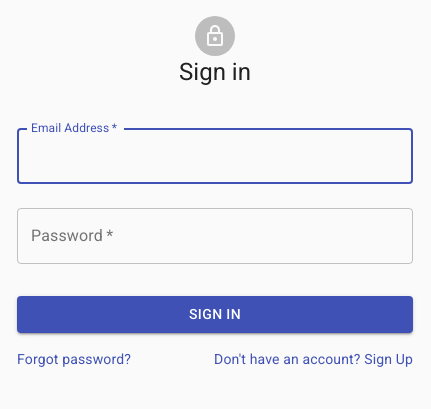
Scenario: Signin › password input indicates email and password mismatch errors with wrong password input
In the field with test id "email-signin": (215, 156) left=17, top=128, right=413, bottom=184, type "currentUser@gmail.com"
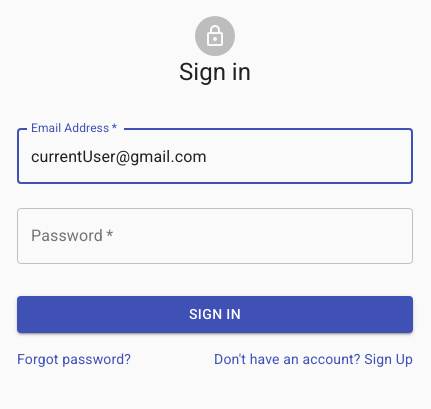
In the password field with test id "password-signin": (215, 236) left=17, top=208, right=413, bottom=264, type "zxcvbnm123"
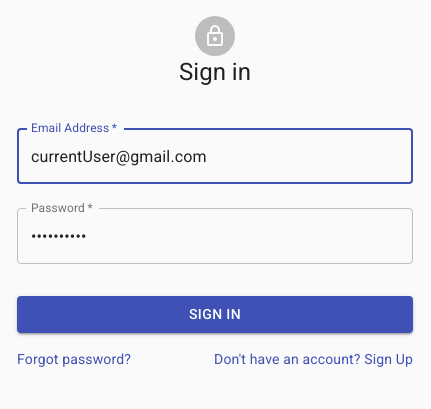
Click the button: (215, 314) left=17, top=296, right=413, bottom=332
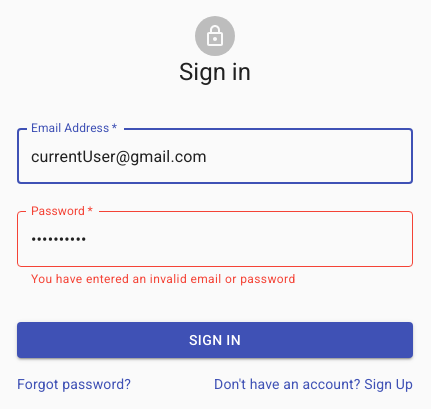
Now the text "You have entered an invalid email or password" is shown, box left=31, top=272, right=296, bottom=286
